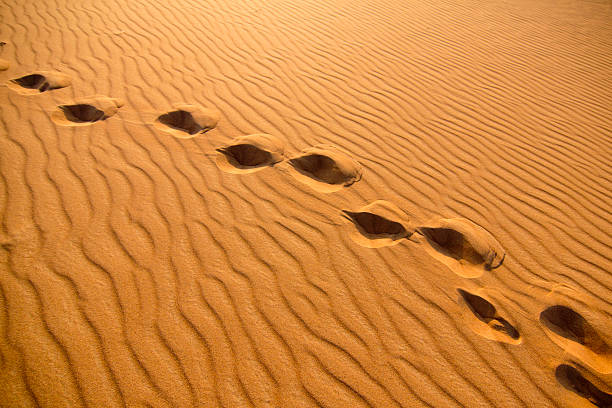animal_footprint: (417, 218, 504, 277), (539, 305, 611, 373), (457, 288, 521, 343), (288, 144, 361, 192), (342, 200, 413, 247), (216, 134, 284, 173), (555, 364, 611, 407), (155, 104, 219, 138), (51, 95, 123, 125), (7, 71, 70, 94)
